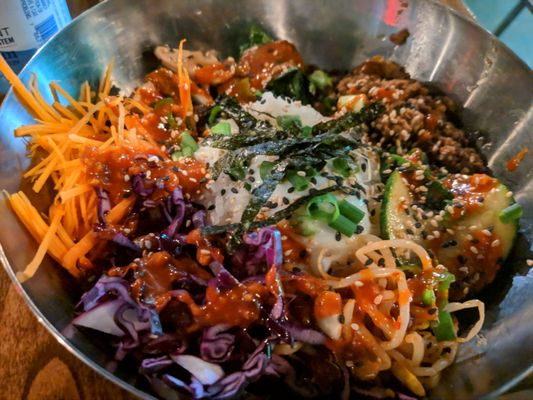salad: (0, 53, 64, 126)
